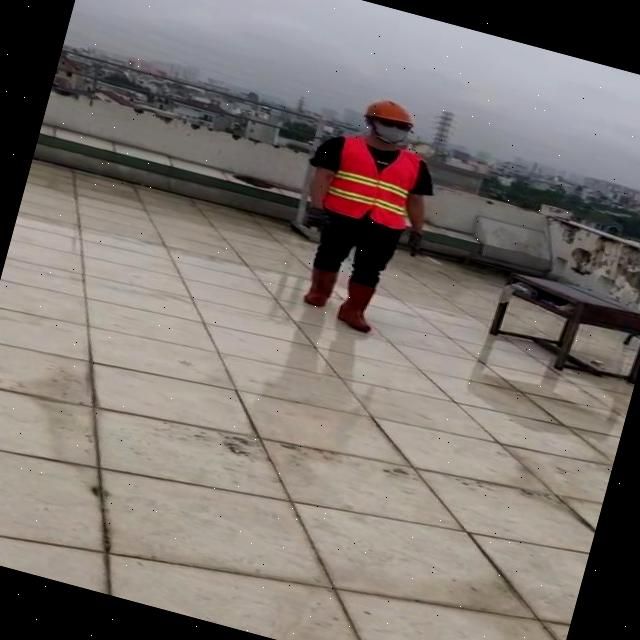boots: (334, 279, 386, 335), (302, 265, 338, 309)
helmet: (359, 92, 420, 130)
vest: (318, 130, 425, 232)
